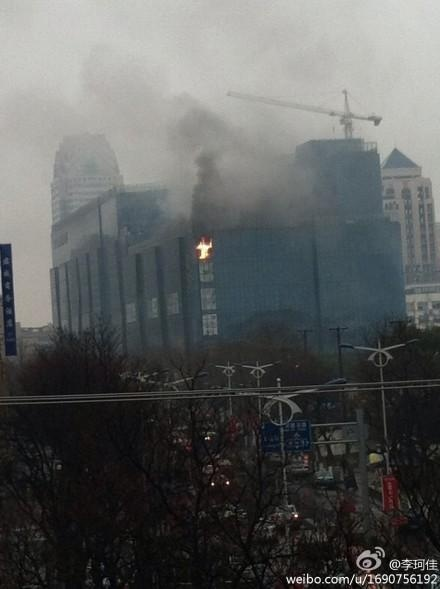fire: (195, 236, 214, 260)
